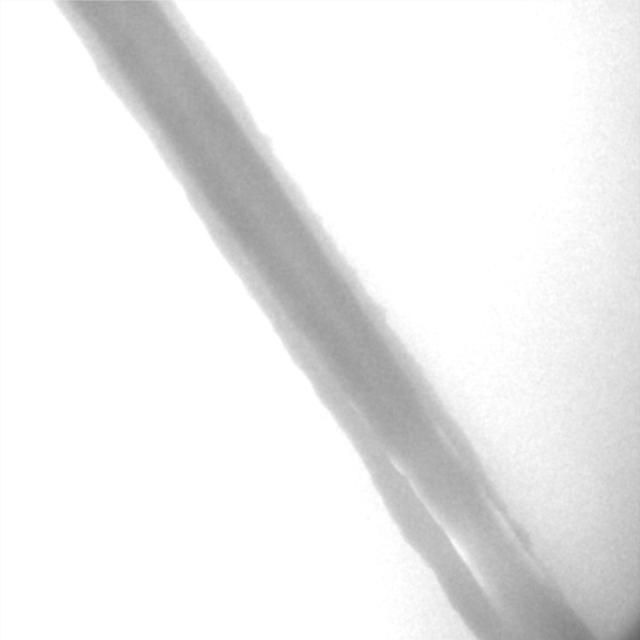unfused: (390, 427, 527, 588)
